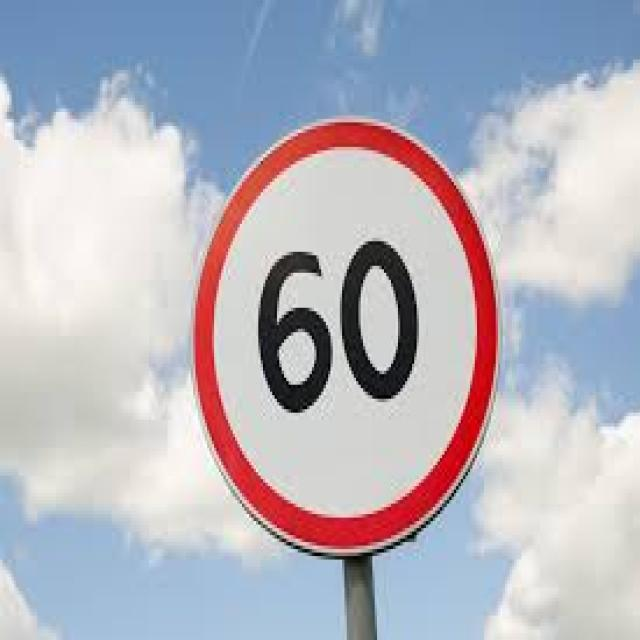Limite-60: (185, 102, 500, 566)
